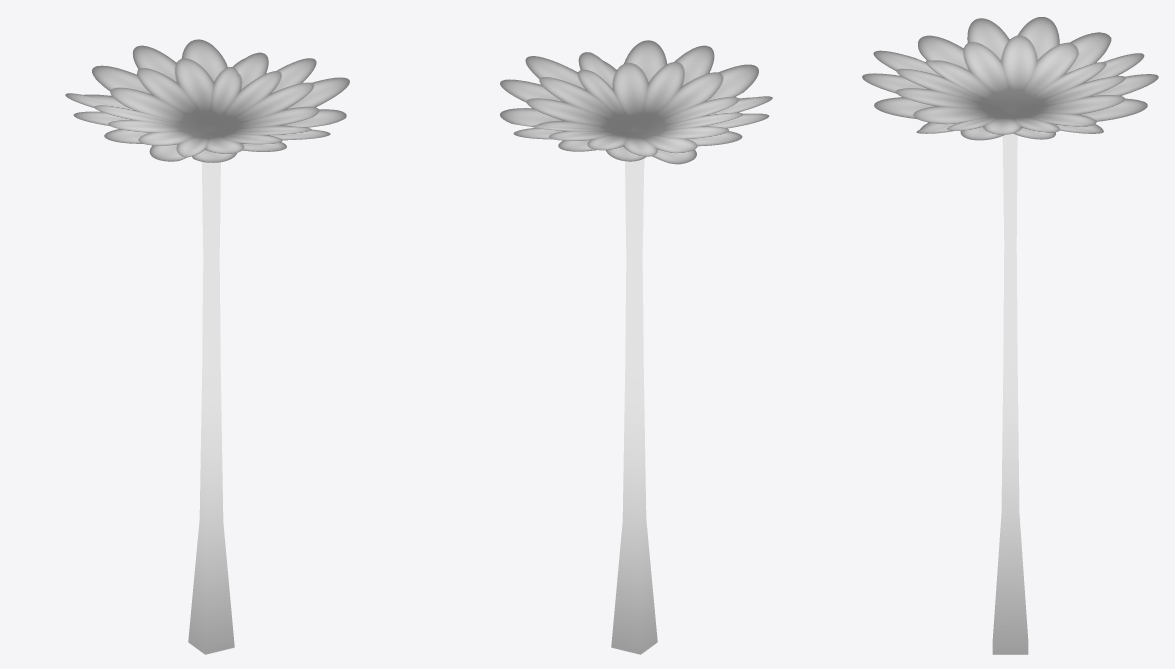
The model's file is SM_FlowerSingle_01_Unity.fbx.
3 views of the same model, side by side, from view 1: azimuth 30°, elevation 25°; view 2: azimuth 150°, elevation 25°; view 3: azimuth 270°, elevation 25° (orthographic). The views are drawn at different scales.
Visible parts, largest first — view 1: SM_FlowerSingle_01_LOD0; view 2: SM_FlowerSingle_01_LOD0; view 3: SM_FlowerSingle_01_LOD0.
Part boxes in pixels (left/top/right/bottom): SM_FlowerSingle_01_LOD0: left=65, top=39, right=349, bottom=654; SM_FlowerSingle_01_LOD0: left=500, top=40, right=772, bottom=654; SM_FlowerSingle_01_LOD0: left=862, top=17, right=1158, bottom=654.
Size of what is drawn, in the model's own units: 0.2213 by 0.4631 by 0.2213.
